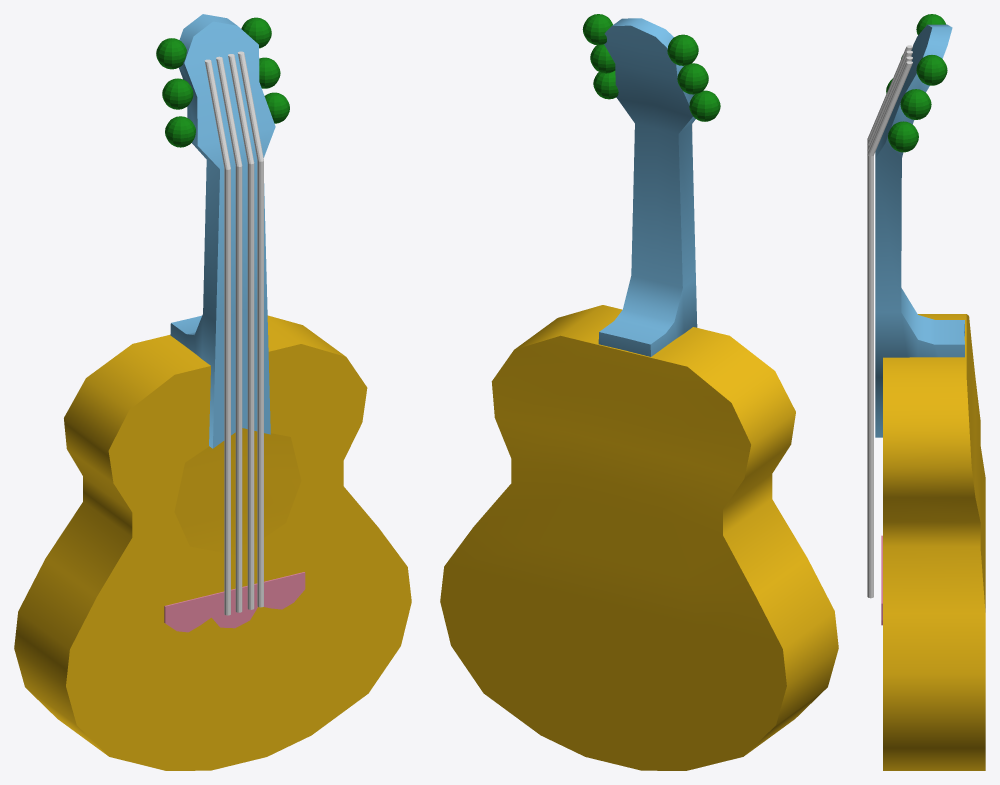
Rendered from m_blockoutguitare_01.fbx.
3 renders of one model, left to right at view 1: azimuth 30°, elevation 25°; view 2: azimuth 150°, elevation 25°; view 3: azimuth 270°, elevation 25°, orthographic.
Visible parts, largest first — view 1: base_guitare, base_guitare_02, guitare_cordes, guitare_sphere, guitare_deco; view 2: base_guitare, base_guitare_02, guitare_sphere; view 3: base_guitare, base_guitare_02, guitare_cordes, guitare_sphere.
Part boxes in pixels (x1,y1,x2,y2): base_guitare: (14, 315, 411, 770); base_guitare_02: (170, 14, 275, 448); guitare_cordes: (204, 51, 263, 615); guitare_sphere: (156, 17, 289, 147); guitare_deco: (164, 572, 305, 632); base_guitare: (440, 305, 838, 770); base_guitare_02: (598, 18, 697, 356); guitare_sphere: (582, 14, 720, 121); base_guitare: (883, 314, 985, 770); base_guitare_02: (875, 24, 964, 437); guitare_cordes: (867, 45, 912, 598); guitare_sphere: (886, 14, 947, 152).
Size of the model in its own units: 47.7 by 95.45 by 14.23.
